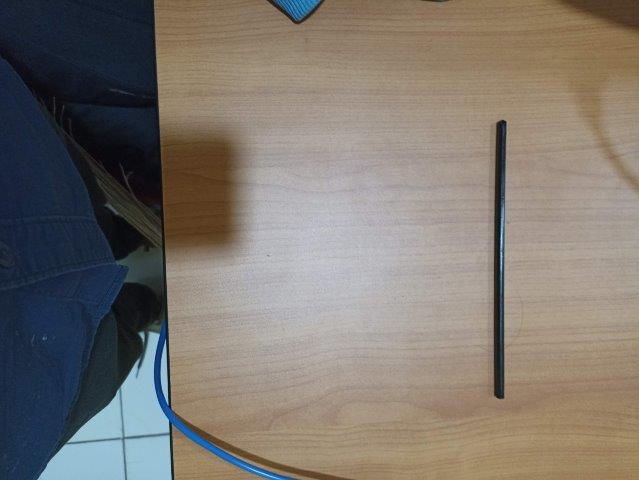sedotan: (494, 121, 507, 398)
